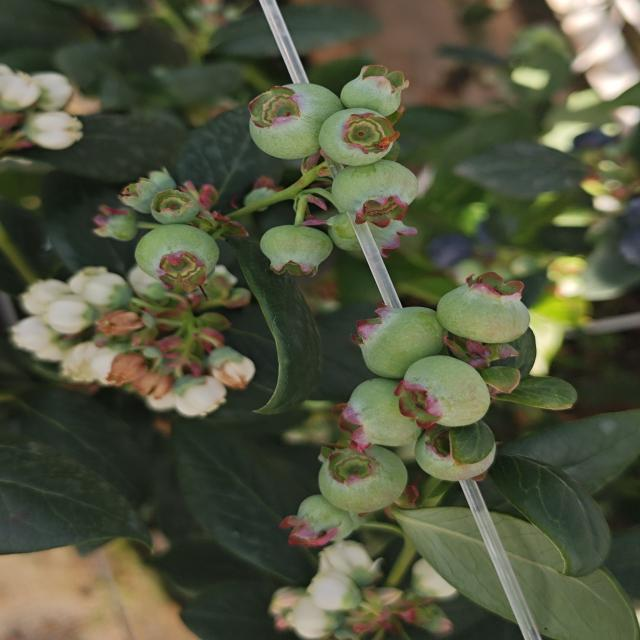ripe: (414, 220, 498, 272), (618, 191, 640, 266)
